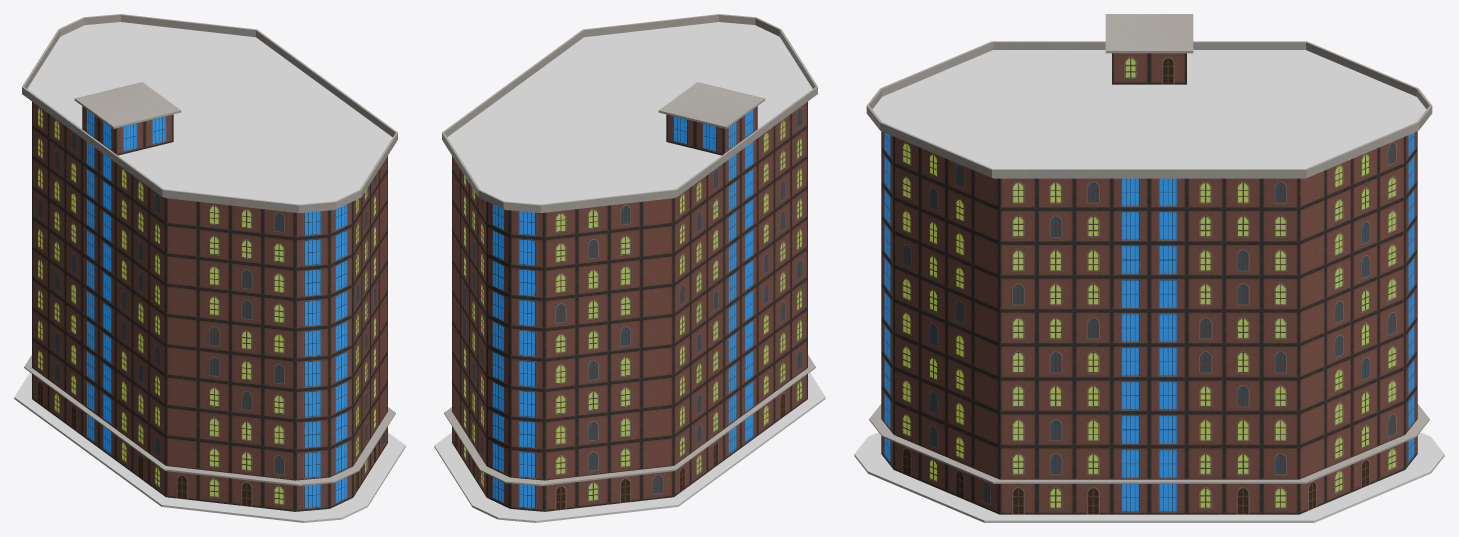
Rendered from BuildingJ.fbx.
3 renders of one model, left to right at view 1: azimuth 30°, elevation 25°; view 2: azimuth 150°, elevation 25°; view 3: azimuth 270°, elevation 25°, orthographic. The views are drawn at different scales.
Parts seen in each view (by area): view 1: BuildingJ; view 2: BuildingJ; view 3: BuildingJ.
Part boxes in pixels (x1,y1,x2,y2): BuildingJ: (14, 14, 405, 522); BuildingJ: (434, 14, 825, 522); BuildingJ: (854, 14, 1444, 522).
Bounding box in the file's own units: 2527 × 3350 × 4727.
